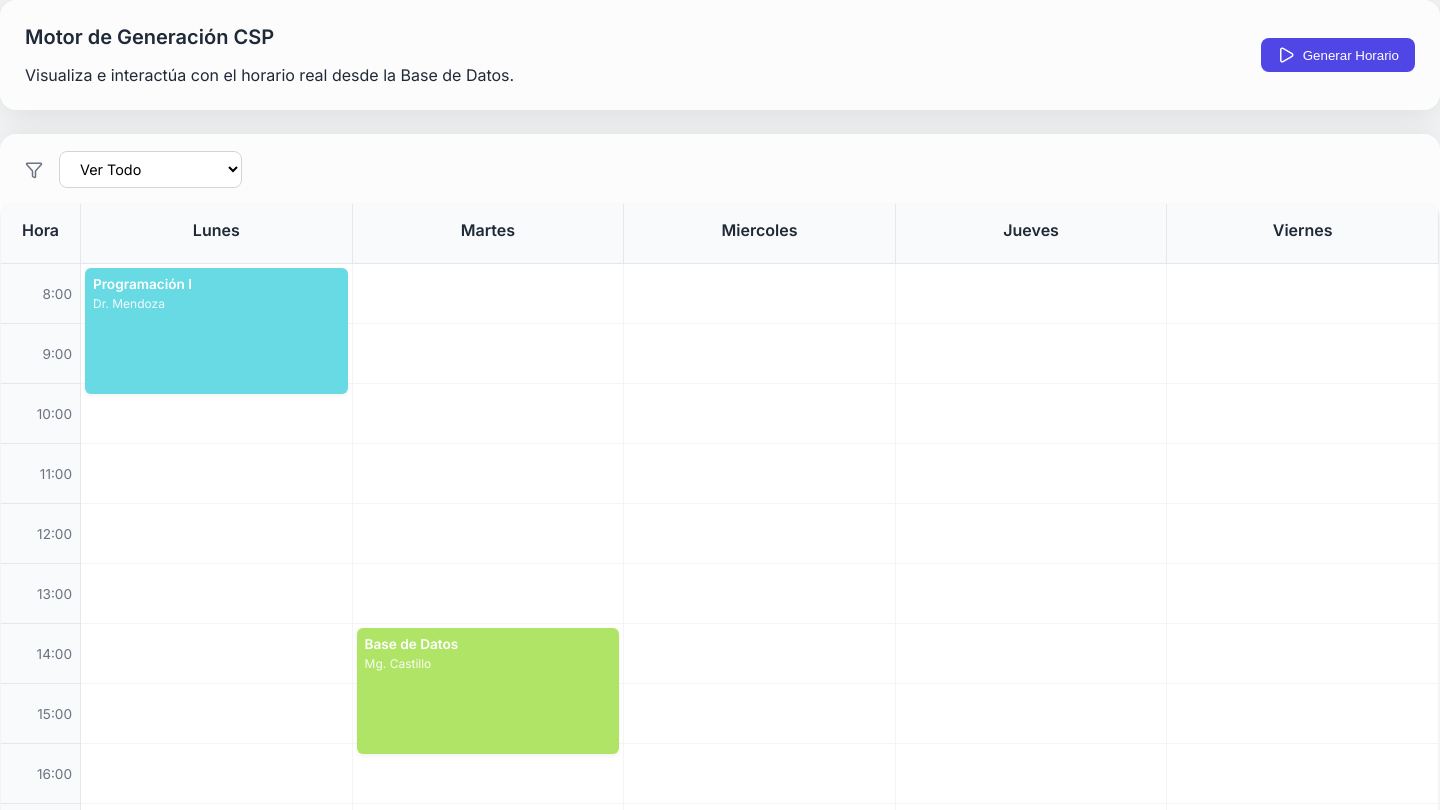
Test: ScheduleGrid › cierra modal al hacer clic en Cerrar
The width and height of the screenshot is (1440, 810).
Click the text "Programación I" at (142, 284), box x1=93 y1=276 x2=192 y2=292
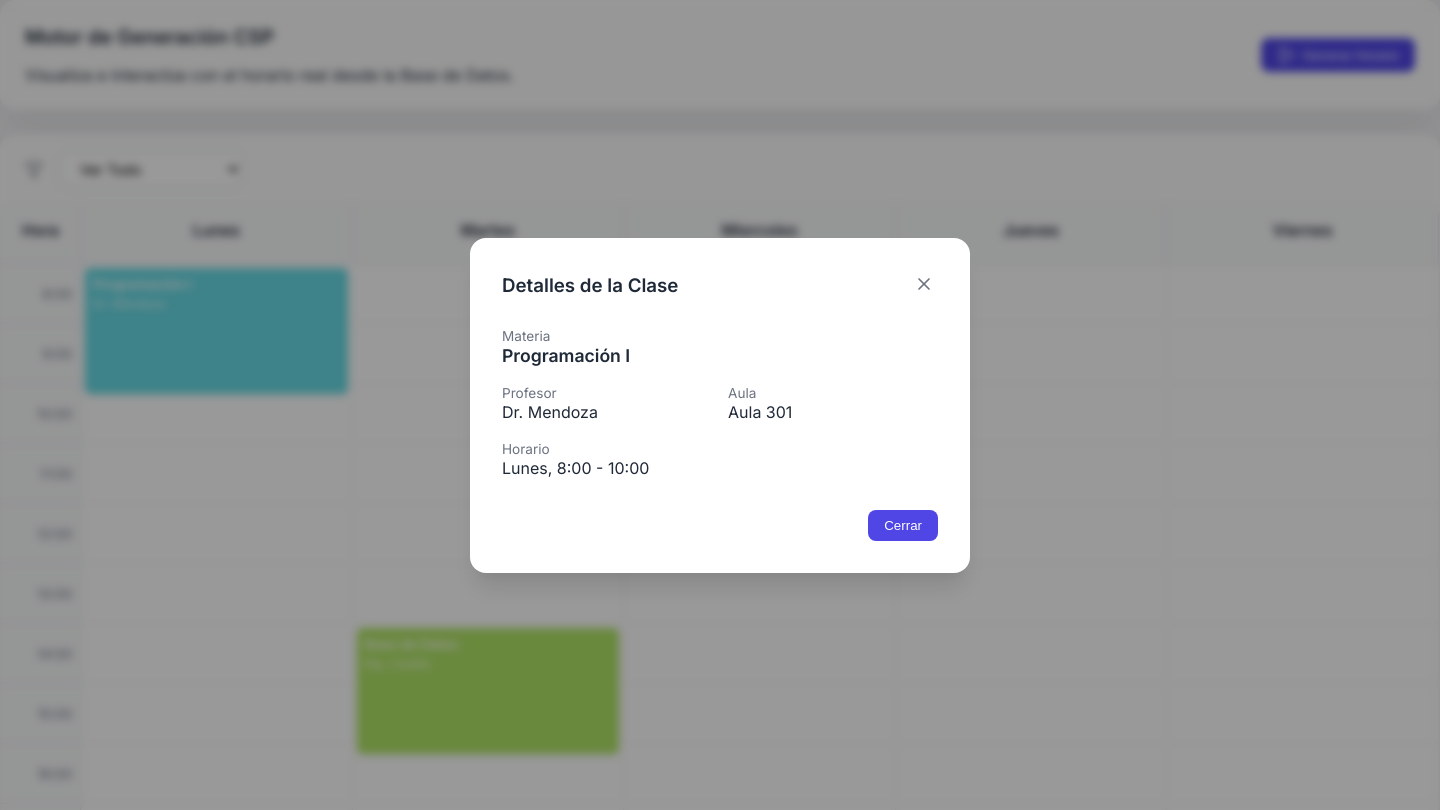
Now the heading "Detalles de la Clase" is shown, box x1=502 y1=274 x2=678 y2=296
Click the button "Cerrar" at (903, 525), box x1=868 y1=510 x2=938 y2=540
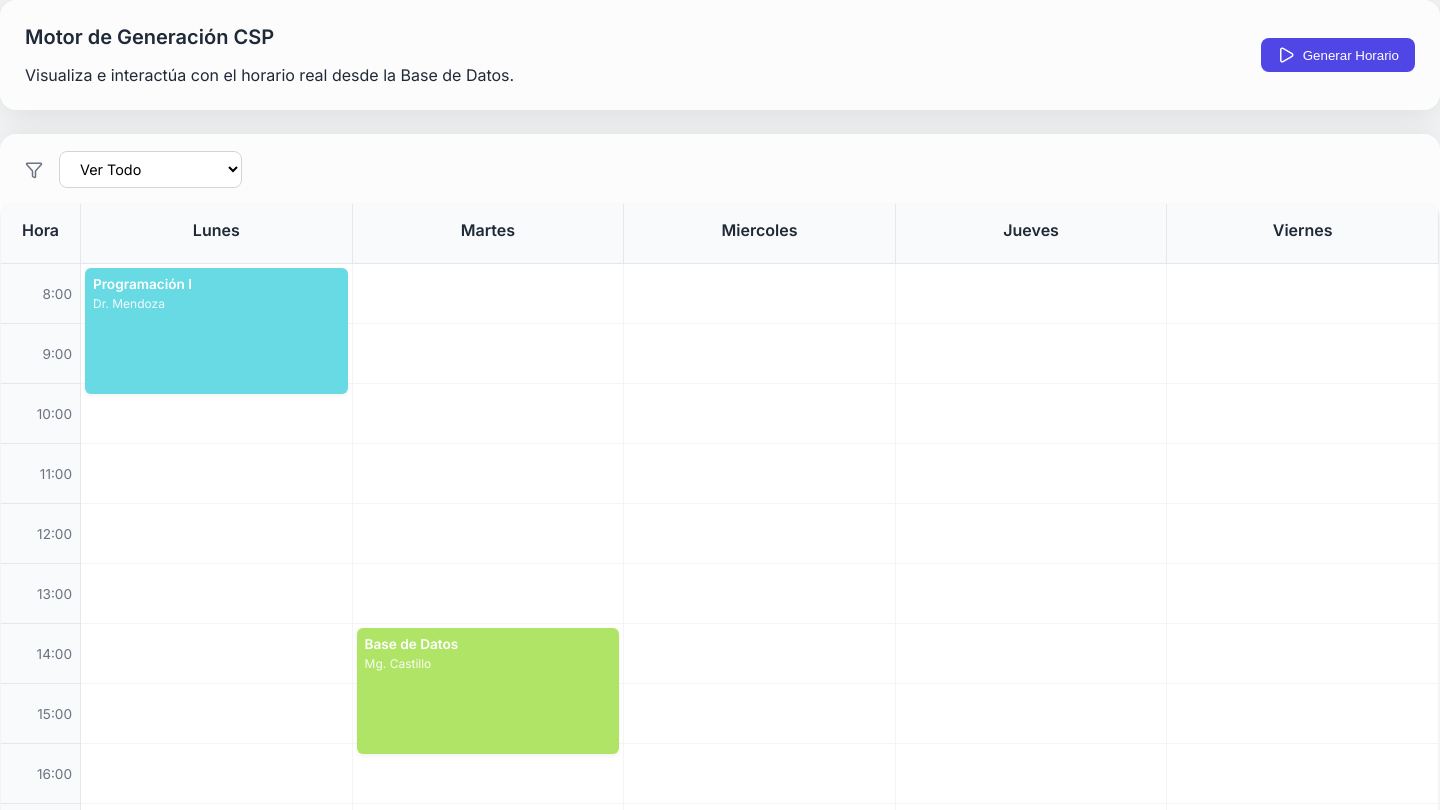
Now the heading "Detalles de la Clase" is gone
